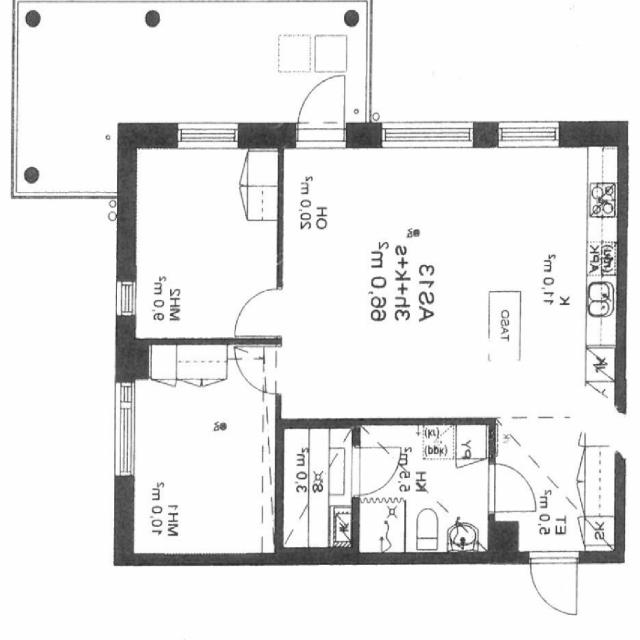door: (298, 68, 345, 146), (531, 554, 577, 618), (352, 447, 403, 495), (488, 464, 537, 512), (234, 289, 282, 335), (235, 347, 282, 393)
